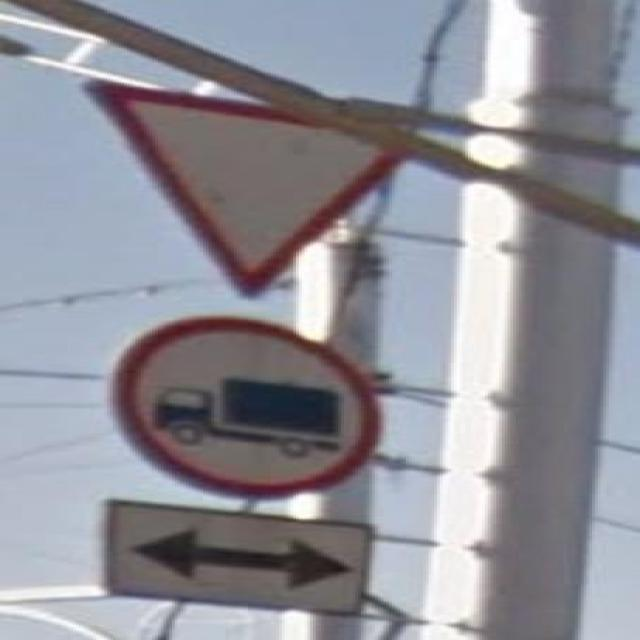give_way: (81, 77, 412, 301)
truck: (113, 315, 389, 499)
